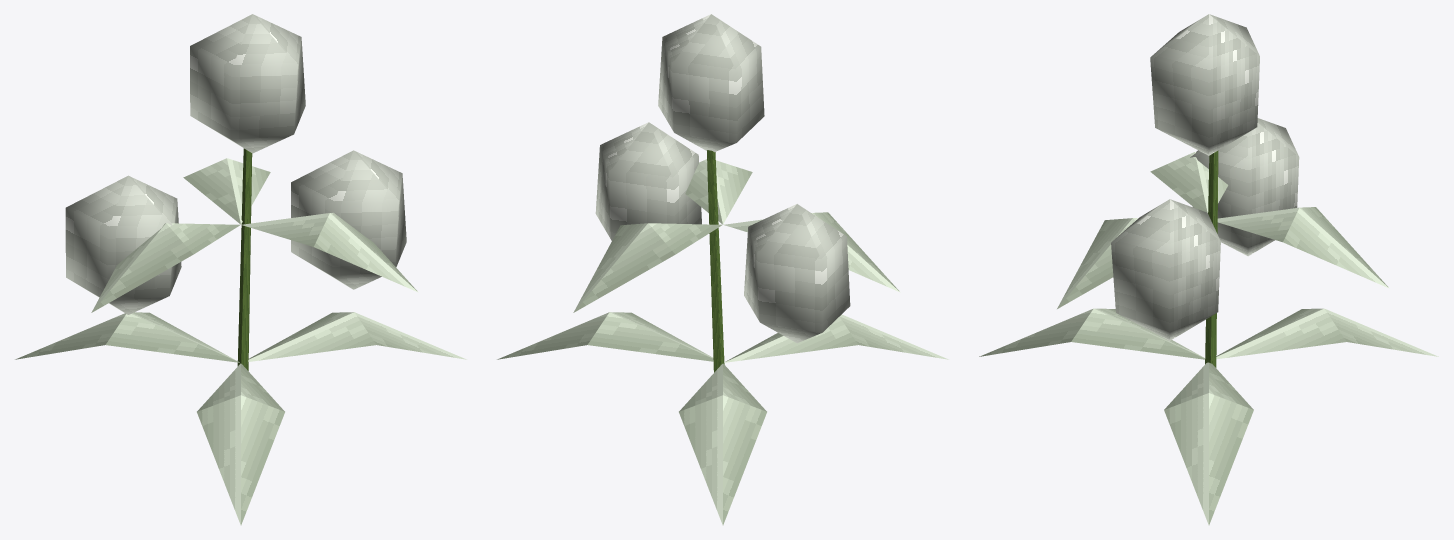
The model's file is bushy_2_lod.obj.
3 views of the same model, side by side, from view 1: azimuth 30°, elevation 25°; view 2: azimuth 150°, elevation 25°; view 3: azimuth 270°, elevation 25° (orthographic).
Parts seen in each view (by area): view 1: plant; view 2: plant; view 3: plant.
Part boxes in pixels (bbox=[...]): plant: bbox=[15, 14, 466, 525]; plant: bbox=[497, 14, 948, 525]; plant: bbox=[979, 14, 1438, 525].
Size of the model in its own units: 0.7324 by 0.8326 by 0.7366.
